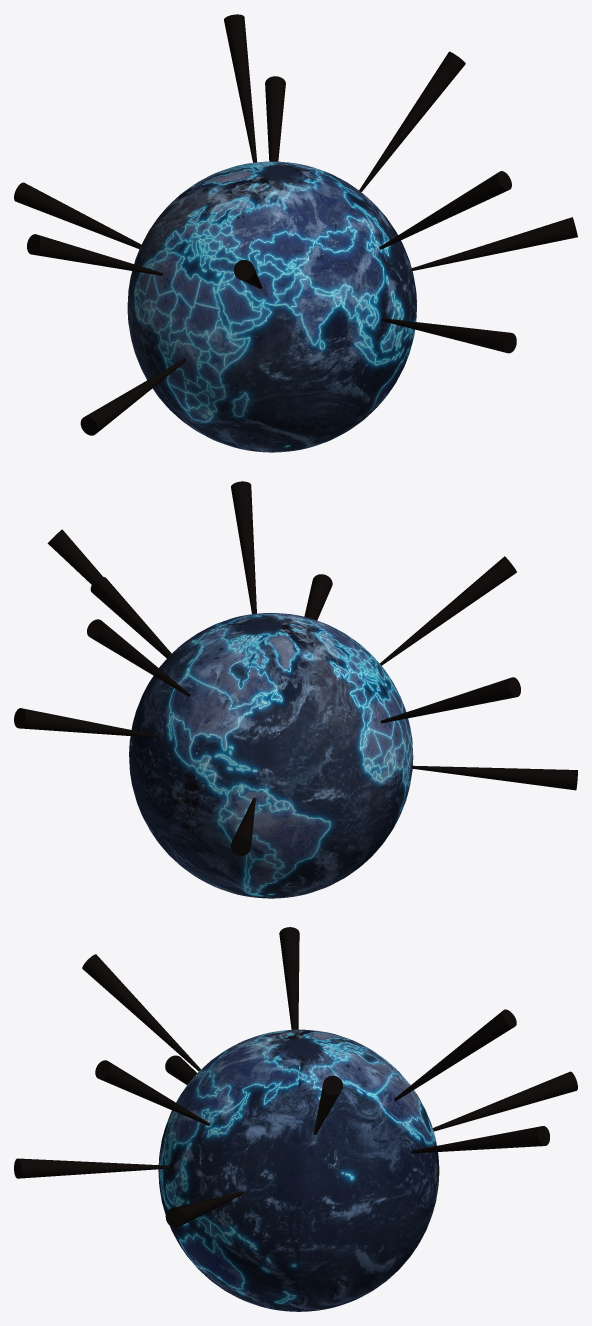
File: Earth_0719_2.glb
3 renders of one model, top to bottom at view 1: azimuth 30°, elevation 25°; view 2: azimuth 150°, elevation 25°; view 3: azimuth 270°, elevation 25°, orthographic. The views are drawn at different scales.
Visible parts, largest first — view 1: Earth, Algeria.005, Algeria.006, Algeria.008, Algeria.009, Korea, Algeria, Algeria.003, Algeria.001, Algeria.007; view 2: Earth, Algeria.001, Algeria.002, Algeria.006, Korea, Algeria.007, Algeria, Algeria.008, Algeria.003, Algeria.009, Algeria.005; view 3: Earth, Algeria.002, Algeria.003, Algeria.009, Algeria.008, Algeria.007, Korea, Algeria, Algeria.005, Algeria.006, Algeria.001.
Part boxes in pixels (left/top/right/bottom): Earth: left=127, top=161, right=416, bottom=452; Algeria.005: left=411, top=217, right=577, bottom=270; Algeria.006: left=359, top=51, right=465, bottom=191; Algeria.008: left=224, top=14, right=257, bottom=162; Algeria.009: left=14, top=182, right=141, bottom=249; Korea: left=379, top=171, right=511, bottom=249; Algeria: left=27, top=234, right=162, bottom=275; Algeria.003: left=381, top=318, right=516, bottom=353; Algeria.001: left=80, top=358, right=186, bottom=435; Algeria.007: left=265, top=76, right=285, bottom=161; Earth: left=129, top=613, right=413, bottom=898; Algeria.001: left=412, top=765, right=577, bottom=790; Algeria.002: left=380, top=556, right=516, bottom=665; Algeria.006: left=47, top=529, right=170, bottom=656; Korea: left=231, top=481, right=256, bottom=613; Algeria.007: left=14, top=708, right=156, bottom=737; Algeria: left=380, top=677, right=520, bottom=723; Algeria.008: left=87, top=619, right=190, bottom=696; Algeria.003: left=304, top=574, right=332, bottom=620; Algeria.009: left=230, top=797, right=255, bottom=855; Algeria.005: left=90, top=577, right=171, bottom=658; Earth: left=158, top=1029, right=439, bottom=1311; Algeria.002: left=82, top=954, right=200, bottom=1071; Algeria.003: left=14, top=1158, right=170, bottom=1178; Algeria.009: left=433, top=1071, right=577, bottom=1131; Algeria.008: left=394, top=1009, right=516, bottom=1101; Algeria.007: left=411, top=1126, right=549, bottom=1153; Korea: left=95, top=1060, right=209, bottom=1125; Algeria: left=279, top=927, right=299, bottom=1029; Algeria.005: left=165, top=1191, right=244, bottom=1227; Algeria.006: left=313, top=1075, right=342, bottom=1134; Algeria.001: left=165, top=1055, right=197, bottom=1084.
Bounding box in the file's own units: 3.89 × 2.49 × 3.96.
Materials: 11 (1 with a texture image).
